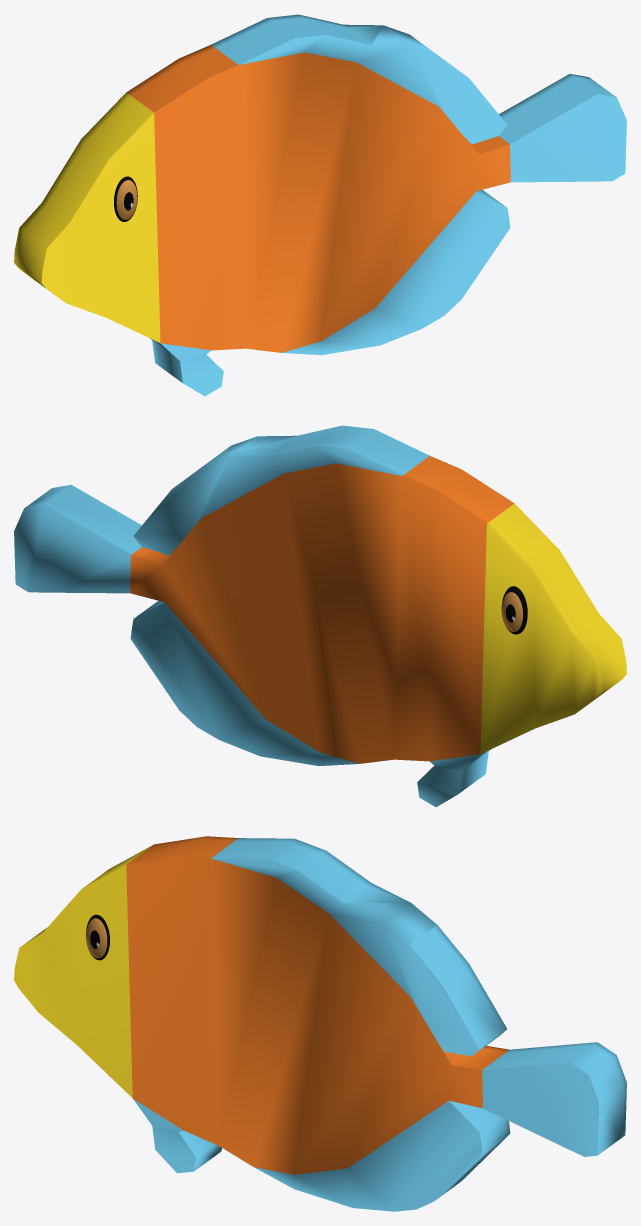
Rendered from Tricolor Fish.fbx.
3 renders of one model, top to bottom at view 1: azimuth 30°, elevation 25°; view 2: azimuth 150°, elevation 25°; view 3: azimuth 330°, elevation 25°, orthographic.
Parts seen in each view (by area): view 1: Tricolor Fish; view 2: Tricolor Fish; view 3: Tricolor Fish.
Part boxes in pixels (x1,y1,x2,y2): Tricolor Fish: [14, 14, 626, 396]; Tricolor Fish: [14, 425, 626, 807]; Tricolor Fish: [14, 836, 626, 1211].
Bounding box in the file's own units: 0.7723 × 0.424 × 0.0816.
